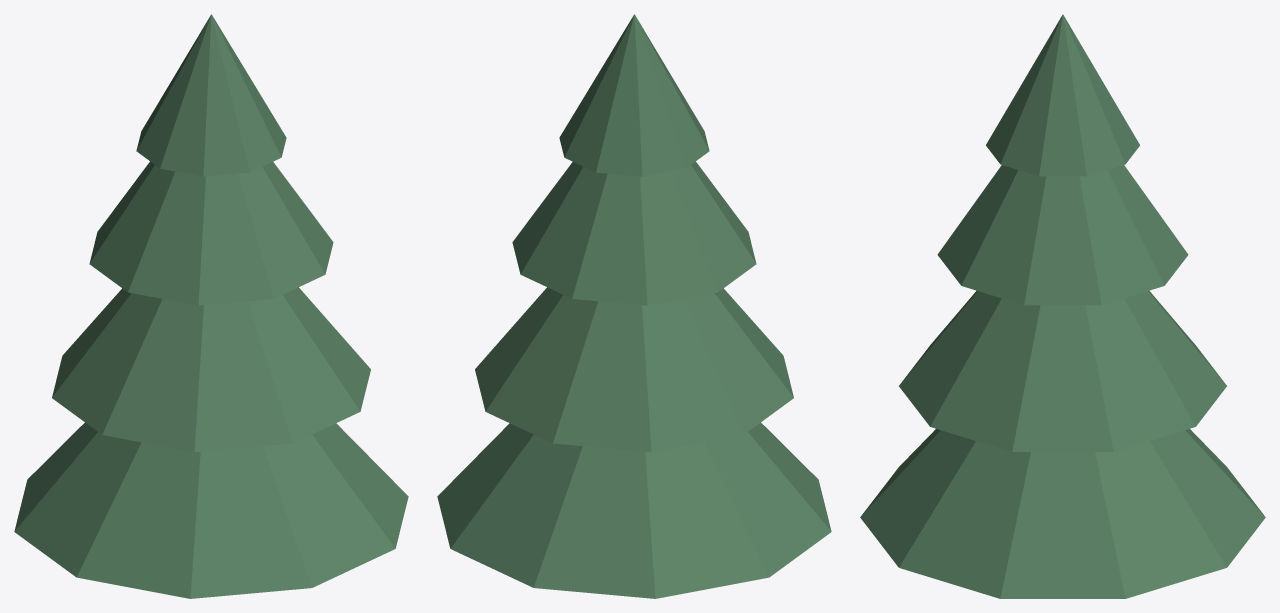
Rendered from forest_pine.obj.
The picture shows the model from 3 angles, left to right: view 1: azimuth 30°, elevation 25°; view 2: azimuth 150°, elevation 25°; view 3: azimuth 270°, elevation 25°; orthographic projection.
Parts seen in each view (by area): view 1: ForestTree; view 2: ForestTree; view 3: ForestTree.
Part boxes in pixels (x1,y1,x2,y2): ForestTree: [14, 14, 408, 598]; ForestTree: [437, 14, 831, 598]; ForestTree: [860, 14, 1265, 598].
Size of the model in its own units: 0.7989 by 1.3 by 0.84.
